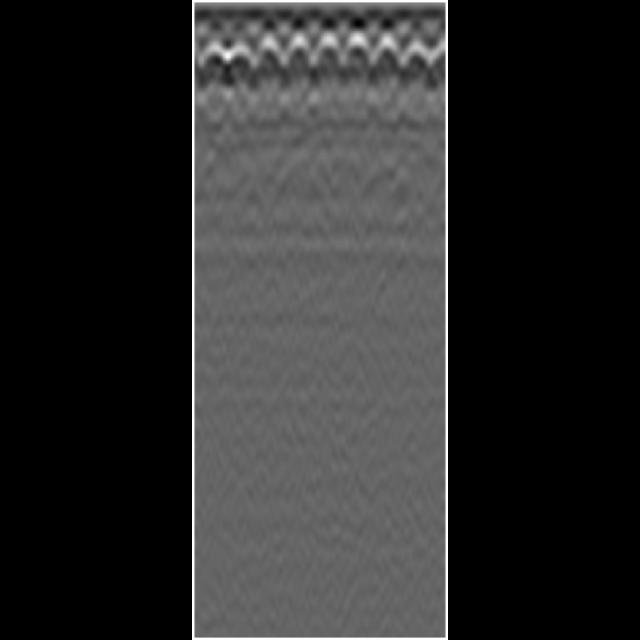hyperbola: (338, 27, 374, 63), (226, 38, 256, 80), (252, 35, 286, 71), (314, 31, 348, 67), (197, 39, 229, 75), (281, 36, 317, 66), (372, 36, 404, 66), (403, 40, 432, 70)
